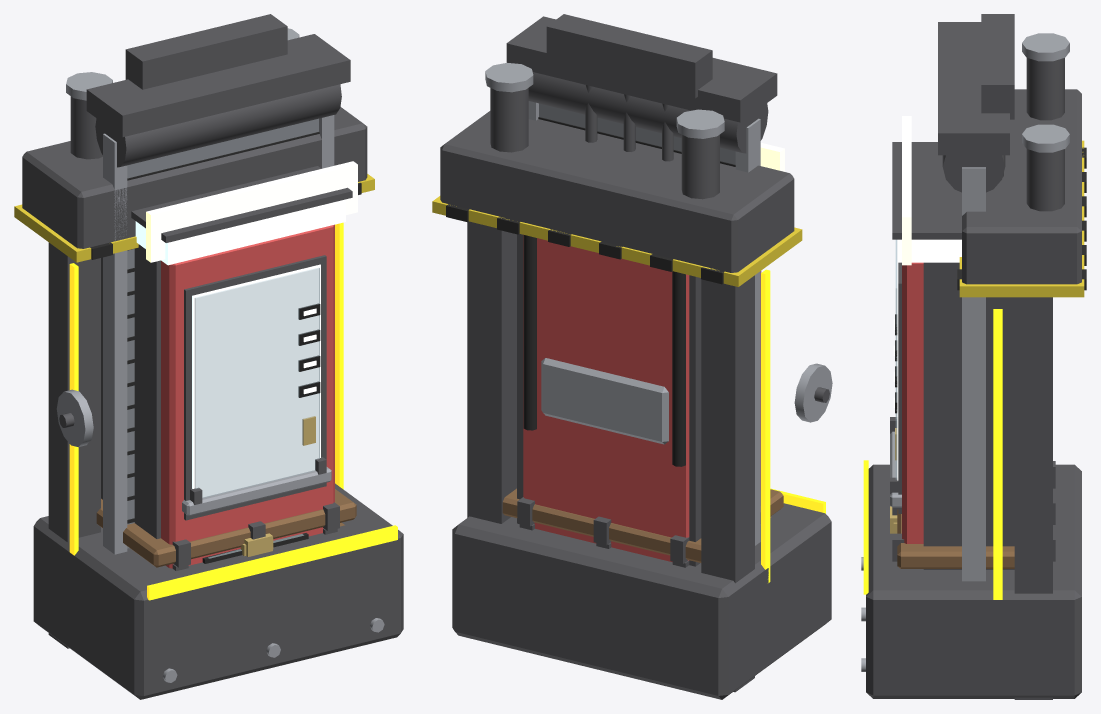
File: props-b05c2297.glb
3 views of the same model, side by side, from view 1: azimuth 30°, elevation 25°; view 2: azimuth 150°, elevation 25°; view 3: azimuth 270°, elevation 25° (orthographic). The views are drawn at different scales.
Visible parts, largest first — view 1: forge_Iron, Panel_Panel, Panel_Glass, gate_Iron, vendor_Cabinet, gate_Steel, forge_ForgeGlow, vendor_Iron, power_Iron, ForgeSign_Sign, Panel_Iron, Slats_Grate (+9 smaller); view 2: forge_Iron, vendor_Cabinet, gate_Iron, power_Iron, Press_Steel, forge_Rubber, vendor_Iron, forge_Steel, forge_ForgeGlow, forge_Warn, Lid_Wood, gate_Steel (+2 smaller); view 3: forge_Iron, vendor_Iron, gate_Iron, gate_Steel, vendor_Cabinet, Sign_Iron, forge_ForgeGlow, power_Iron, forge_Steel, Lid_Wood, forge_Warn, ForgeSign_Sign (+7 smaller).
Part boxes in pixels (x1=…): forge_Iron: x1=22, y1=96, x2=403, y2=699; Panel_Panel: x1=192, y1=264, x2=320, y2=497; Panel_Glass: x1=194, y1=267, x2=319, y2=497; gate_Iron: x1=86, y1=34, x2=350, y2=167; vendor_Cabinet: x1=161, y1=224, x2=334, y2=568; gate_Steel: x1=103, y1=115, x2=334, y2=554; forge_ForgeGlow: x1=69, y1=222, x2=397, y2=600; vendor_Iron: x1=101, y1=244, x2=160, y2=538; power_Iron: x1=125, y1=14, x2=287, y2=89; ForgeSign_Sign: x1=146, y1=161, x2=357, y2=262; Panel_Iron: x1=184, y1=255, x2=326, y2=520; Slats_Grate: x1=127, y1=118, x2=318, y2=548; forge_Iron: x1=440, y1=88, x2=831, y2=699; vendor_Cabinet: x1=523, y1=235, x2=761, y2=562; gate_Iron: x1=506, y1=16, x2=777, y2=153; power_Iron: x1=546, y1=14, x2=712, y2=161; Press_Steel: x1=541, y1=358, x2=668, y2=444; forge_Rubber: x1=446, y1=204, x2=724, y2=466; vendor_Iron: x1=517, y1=234, x2=701, y2=566; forge_Steel: x1=485, y1=63, x2=832, y2=422; forge_ForgeGlow: x1=761, y1=269, x2=825, y2=582; forge_Warn: x1=432, y1=196, x2=802, y2=286; Lid_Wood: x1=502, y1=488, x2=783, y2=562; gate_Steel: x1=528, y1=101, x2=760, y2=545; forge_Iron: x1=866, y1=58, x2=1081, y2=699; vendor_Iron: x1=923, y1=262, x2=1014, y2=569; gate_Iron: x1=938, y1=22, x2=1009, y2=192; gate_Steel: x1=962, y1=167, x2=985, y2=581; vendor_Cabinet: x1=902, y1=262, x2=923, y2=543; Sign_Iron: x1=892, y1=142, x2=961, y2=239; forge_ForgeGlow: x1=863, y1=309, x2=1002, y2=599; power_Iron: x1=981, y1=14, x2=1014, y2=177; forge_Steel: x1=861, y1=33, x2=1069, y2=671; Lid_Wood: x1=897, y1=509, x2=1014, y2=568; forge_Warn: x1=959, y1=140, x2=1084, y2=297; ForgeSign_Sign: x1=902, y1=116, x2=911, y2=265.
Bounding box in the file's own units: 1.53 × 2.72 × 0.94.
